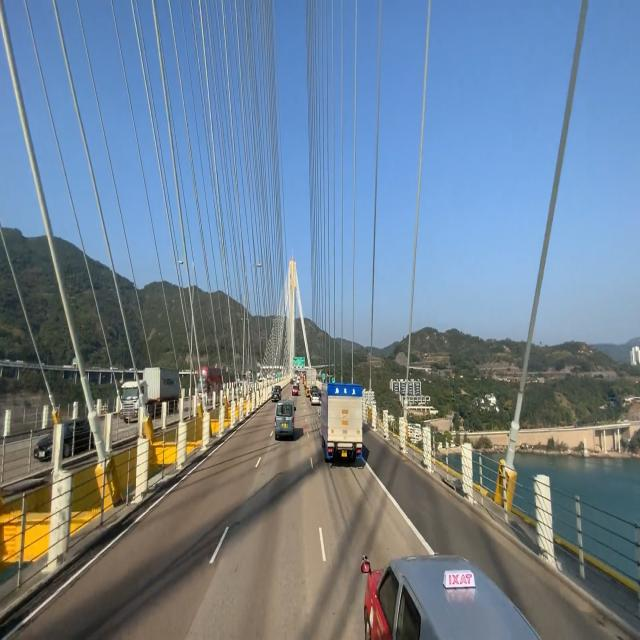Car: (319, 381, 367, 467), (270, 396, 298, 445)
